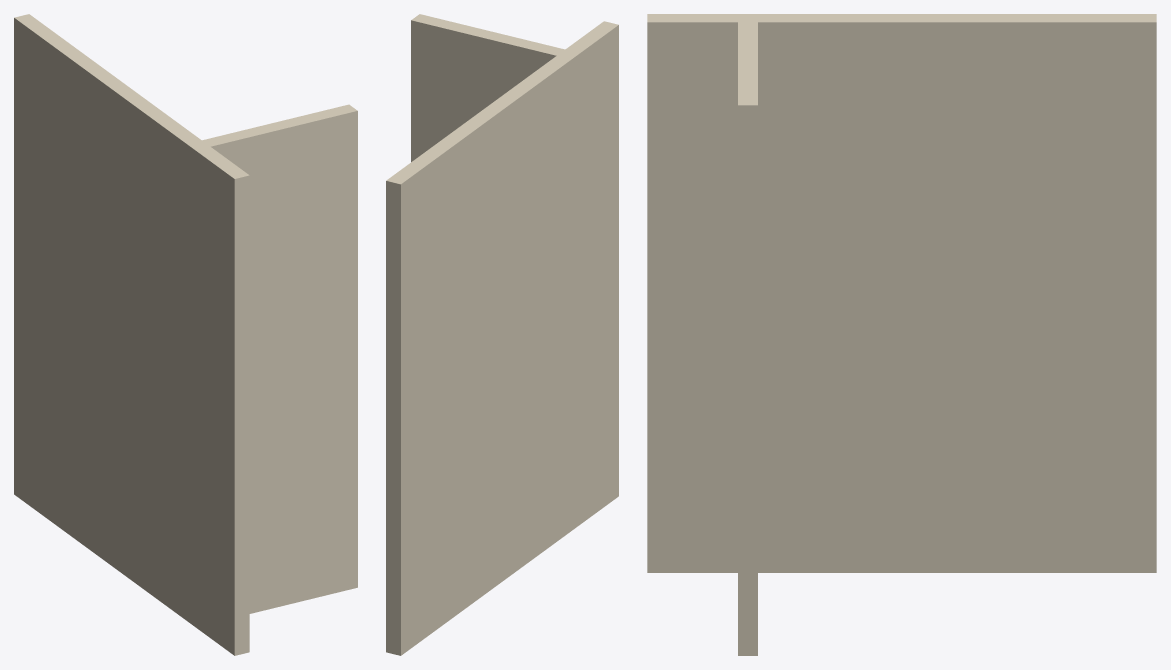
3 views of the same model, side by side, from view 1: azimuth 30°, elevation 25°; view 2: azimuth 150°, elevation 25°; view 3: azimuth 270°, elevation 25° (orthographic). The views are drawn at different scales.
Parts seen in each view (by area): view 1: A-GF-WALL-008; view 2: A-GF-WALL-008; view 3: A-GF-WALL-008.
Boxes of the visible parts, x1,y1,x2,y2 form: A-GF-WALL-008: (14, 14, 357, 655); A-GF-WALL-008: (386, 14, 618, 655); A-GF-WALL-008: (647, 14, 1156, 655).
Bounding box in the file's own units: 0.9688 × 2.72 × 2.28.
